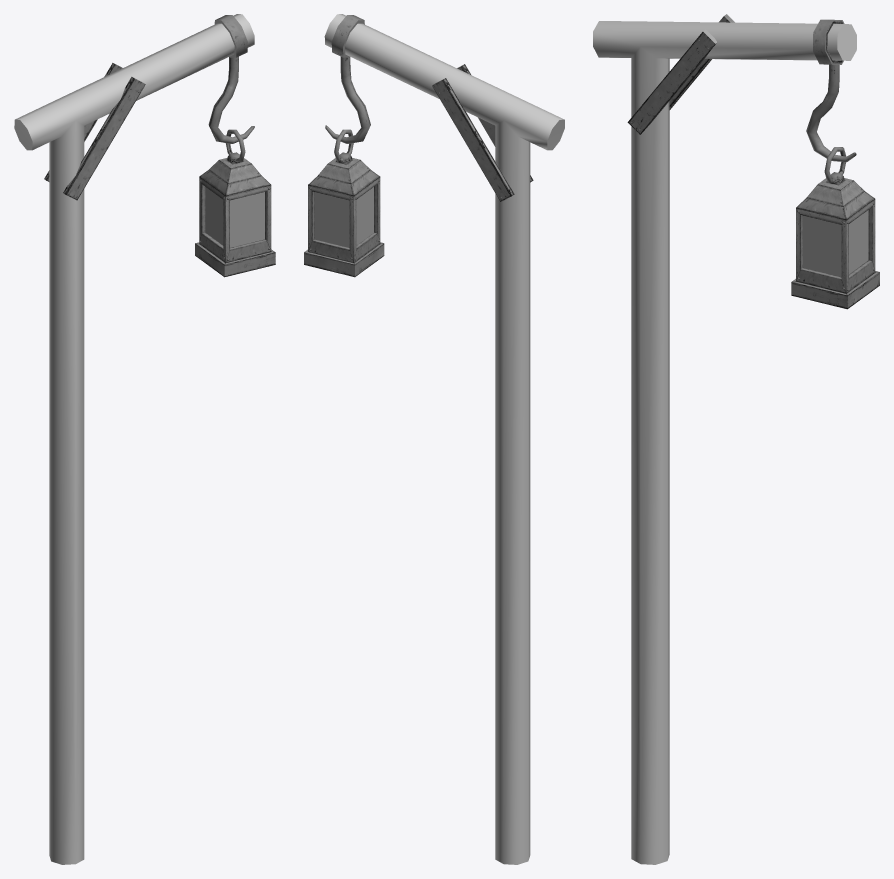
File: Model_Environment_LanternPost.fbx
3 views of the same model, side by side, from view 1: azimuth 30°, elevation 25°; view 2: azimuth 150°, elevation 25°; view 3: azimuth 330°, elevation 25° (orthographic). The views are drawn at different scales.
Parts seen in each view (by area): view 1: LanternPost_low; view 2: LanternPost_low; view 3: LanternPost_low.
Boxes of the visible parts, x1,y1,x2,y2 form: LanternPost_low: (14,14,275,864); LanternPost_low: (304,14,564,864); LanternPost_low: (593,14,879,864).
Size of the model in its own units: 0.8903 by 2.83 by 0.1887.
